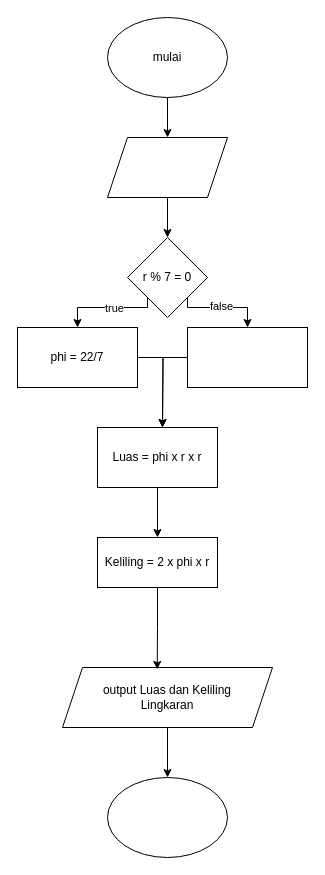
The diagram is 325 pixels wide and 875 high, and some of its shapes have lost their labels. The box of each missing label's shape, as (x1, y1, x2, y2) in pixels:
input = r: (106, 136, 228, 198)
phi = 3.14: (186, 326, 308, 388)
selesai: (106, 776, 228, 858)
